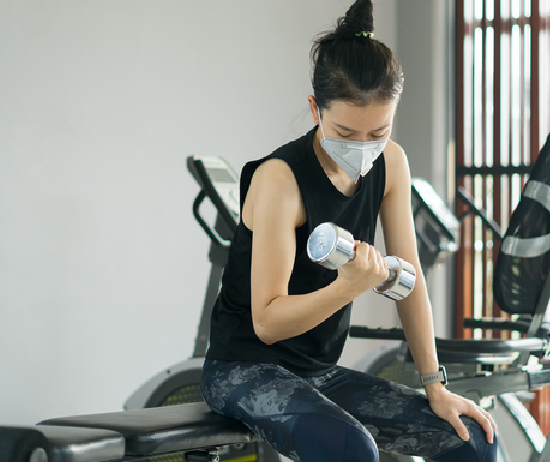with_mask: (301, 79, 396, 183)
